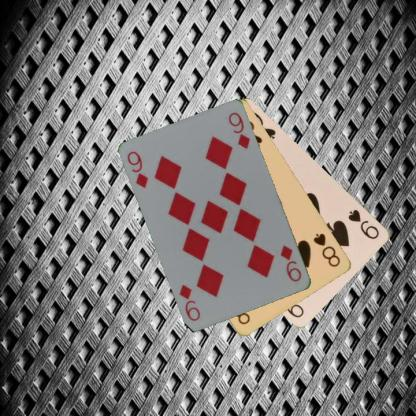8s: (311, 231, 342, 268)
9d: (124, 149, 150, 190), (278, 242, 303, 283)
9s: (346, 206, 380, 241)
